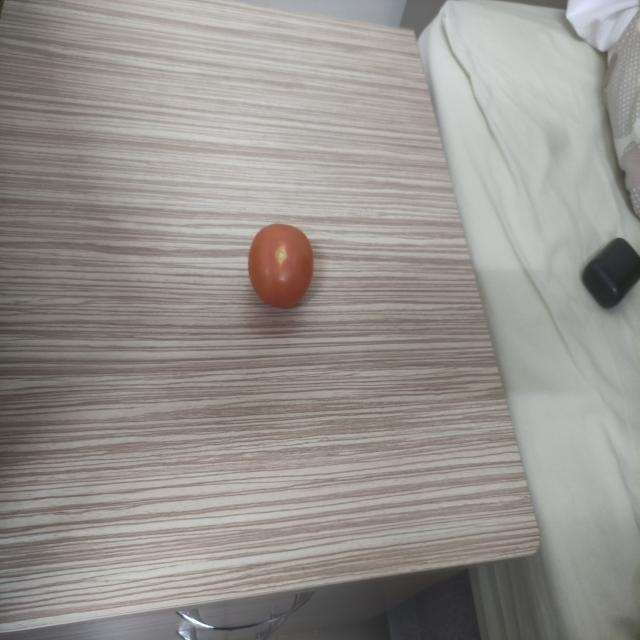sari: (241, 208, 320, 312)
